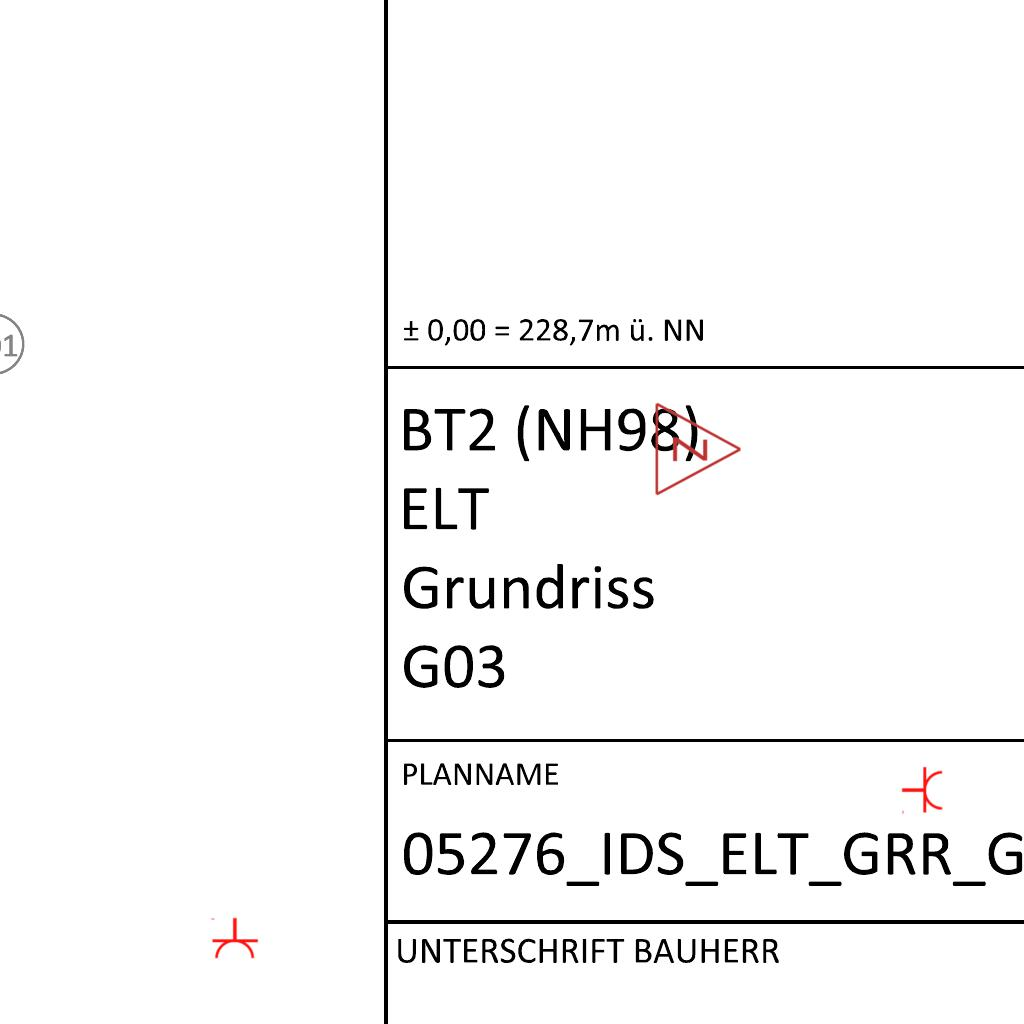Schukosteckdose_einfach: (209, 917, 259, 960), (901, 766, 944, 816)
Zimmersignalleuchte: (648, 399, 748, 497)
